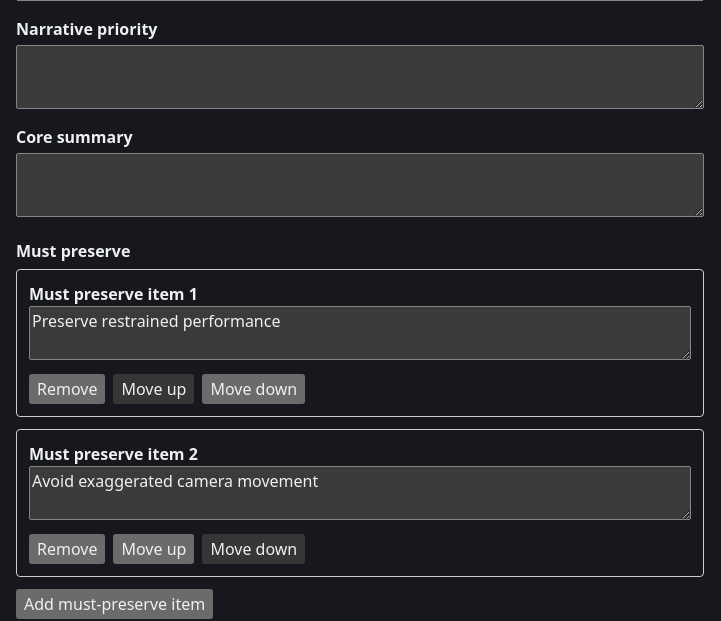
Scenario: ShotAnchorPage › Core Anchor semantic collections (Step 1A-UI) › uses the server-returned semantic collection as the source of truth after a successful save
(page scrolled)
Replace the text in the text box labelled "Must preserve item 1" with "locally typed value": (360, 333) left=29, top=306, right=691, bottom=360
(page scrolled)
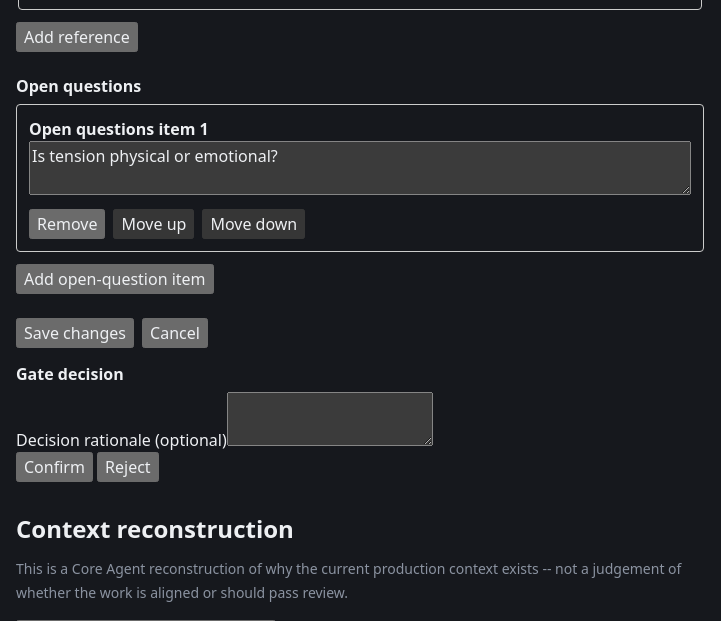
Click the button "Save changes": click(75, 333) left=16, top=318, right=134, bottom=348
(page scrolled)
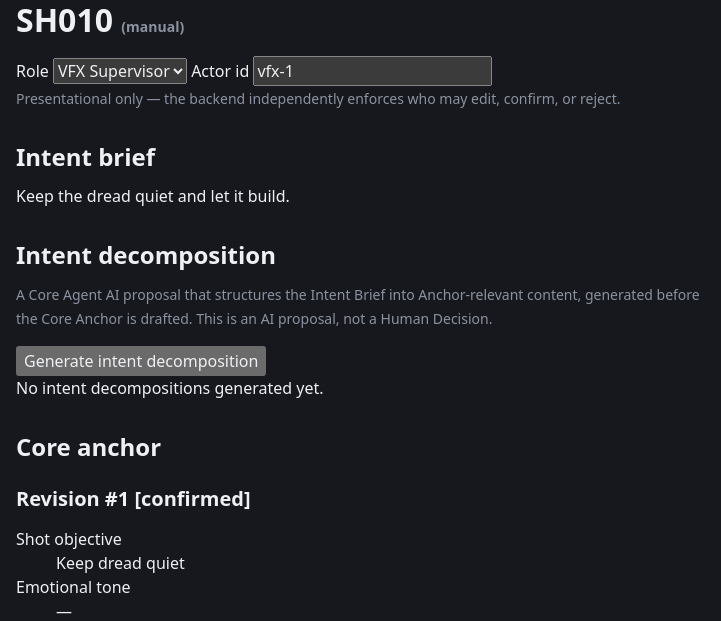
Select "CG Supervisor" in the dropdown labelled "Role": (120, 71) left=53, top=58, right=187, bottom=84
(page scrolled)
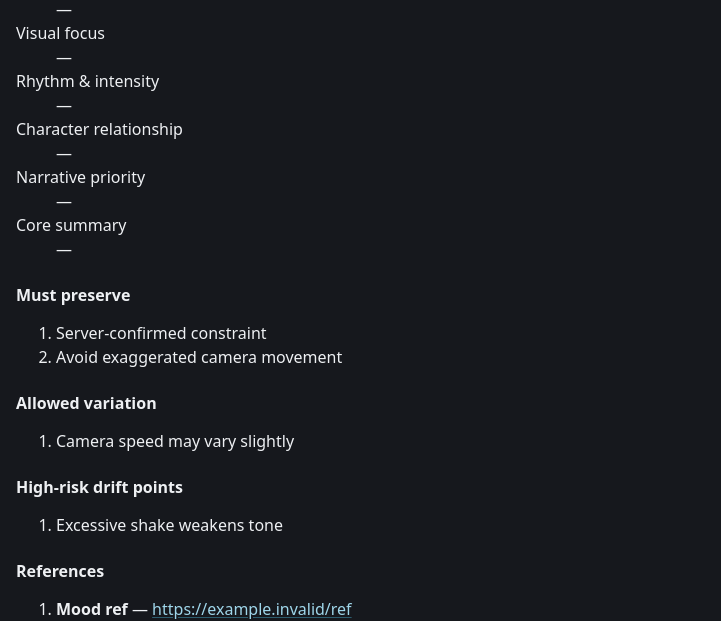
Expected: the list item "Server-confirmed constraint" is shown, left=56, top=322, right=266, bottom=344
